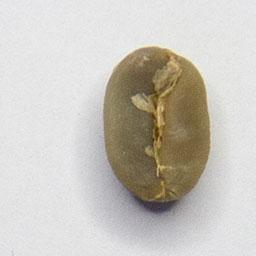premium: (99, 43, 215, 207)
